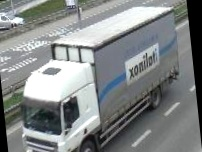truck: (9, 2, 189, 152)
